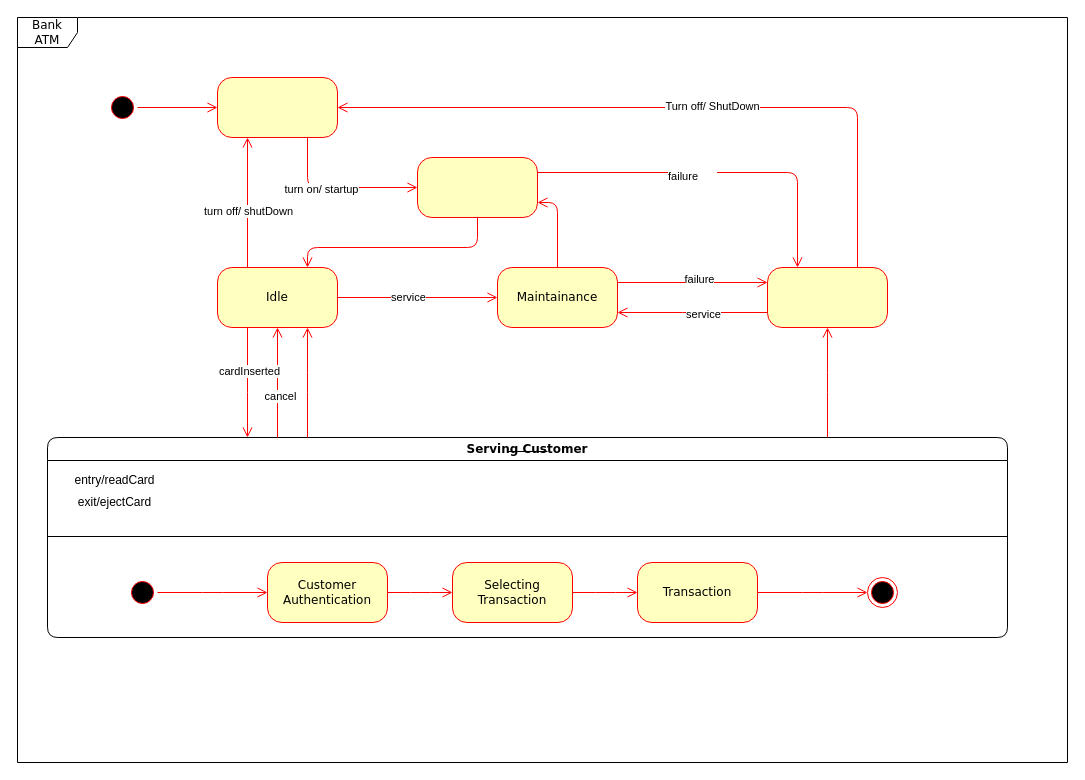
Some shapes in this 1085 by 780 pixel diagram are drawn without their labels. The shapes that lost their labels are listed below. From the top down, each one's centre as x and y in pixels, then its label:
point 277,107: Off
point 477,187: Self Test
point 827,297: Out of service
